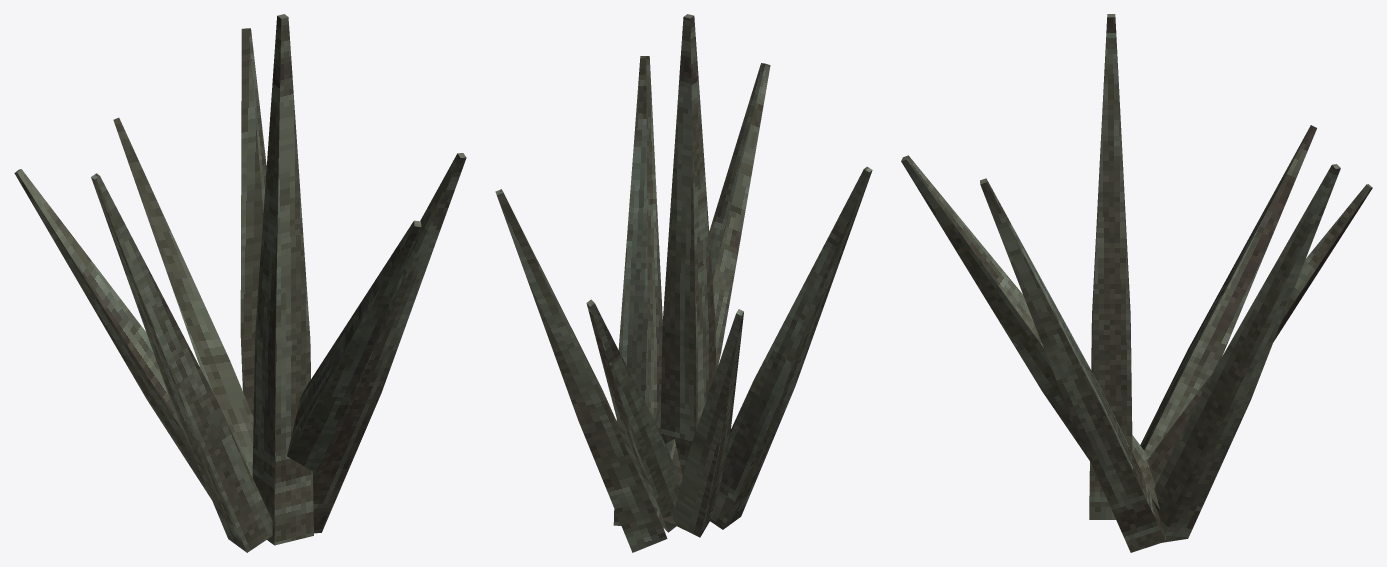
File: spike-variant-3.glb
3 renders of one model, left to right at view 1: azimuth 30°, elevation 25°; view 2: azimuth 150°, elevation 25°; view 3: azimuth 270°, elevation 25°, orthographic. The views are drawn at different scales.
Parts seen in each view (by area): view 1: Spike_Variant_3; view 2: Spike_Variant_3; view 3: Spike_Variant_3.
Boxes of the visible parts, x1,y1,x2,y2 form: Spike_Variant_3: (14, 14, 466, 552); Spike_Variant_3: (495, 14, 872, 552); Spike_Variant_3: (901, 14, 1372, 552).
Bounding box in the file's own units: 1.2 × 2.01 × 1.67.
Materials: 1 (1 with a texture image).
